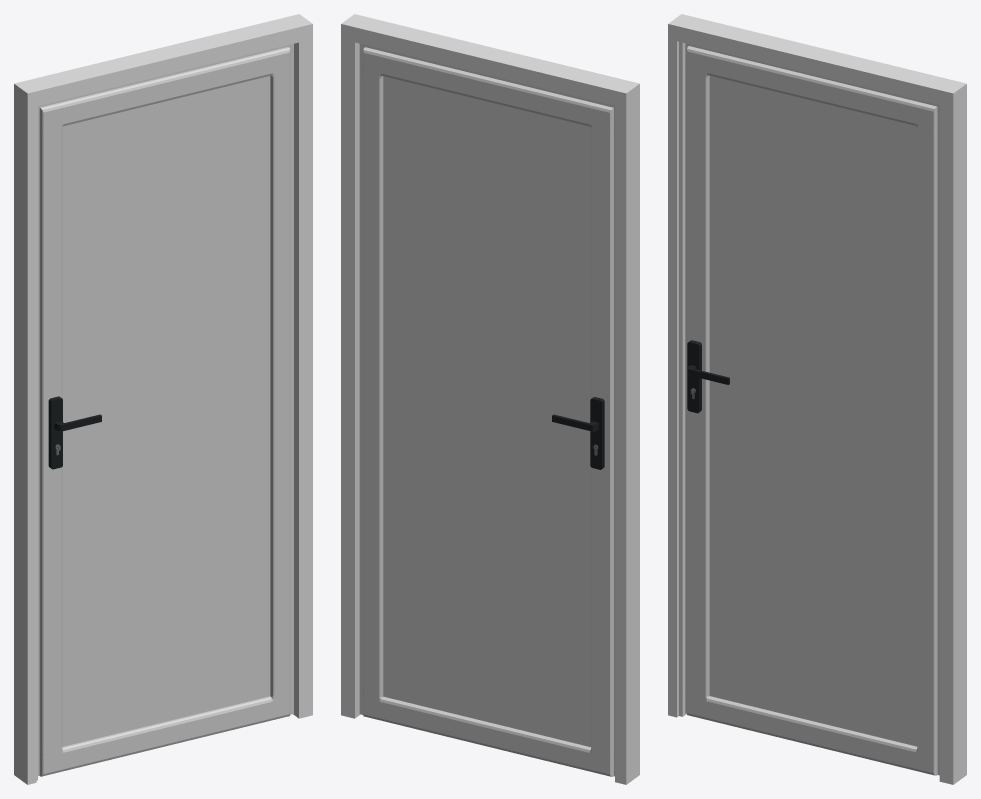
Rendered from MainDoor.fbx.
3 renders of one model, left to right at view 1: azimuth 30°, elevation 25°; view 2: azimuth 150°, elevation 25°; view 3: azimuth 330°, elevation 25°, orthographic.
Parts seen in each view (by area): view 1: Door, Frame Door, Door.001; view 2: Door, Frame Door, Door.003; view 3: Door, Frame Door, Door.001.
Part boxes in pixels (x1,y1,x2,y2): Door: [38, 44, 293, 776]; Frame Door: [14, 14, 312, 784]; Door.001: [48, 396, 62, 469]; Door: [359, 44, 614, 776]; Frame Door: [341, 14, 639, 784]; Door.003: [590, 397, 604, 469]; Door: [685, 43, 939, 775]; Frame Door: [668, 14, 966, 784]; Door.001: [687, 340, 701, 413].
Size of the model in its own units: 95 by 220 by 15.76.
5 materials, 3 textured.
